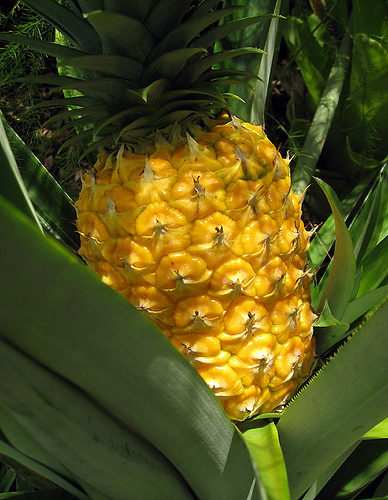pineapple: (3, 0, 312, 425)
